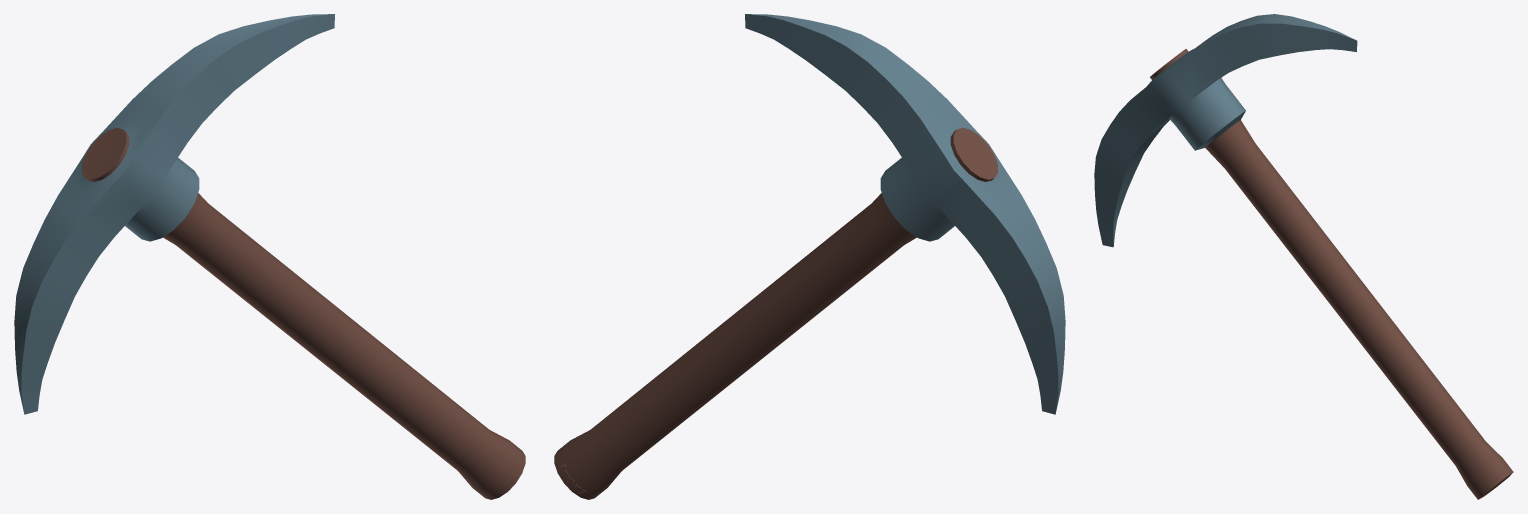
The model's file is pick.gltf.
The picture shows the model from 3 angles, left to right: view 1: azimuth 30°, elevation 25°; view 2: azimuth 150°, elevation 25°; view 3: azimuth 330°, elevation 25°; orthographic projection. The views are drawn at different scales.
Parts seen in each view (by area): view 1: Circle.2583; view 2: Circle.2583; view 3: Circle.2583.
Part boxes in pixels (x1,y1,x2,y2): Circle.2583: (14, 14, 525, 499); Circle.2583: (554, 14, 1065, 499); Circle.2583: (1094, 14, 1513, 499).
Bounding box in the file's own units: 2.1 × 2.1 × 0.256.
Materials: 1 (1 with a texture image).
